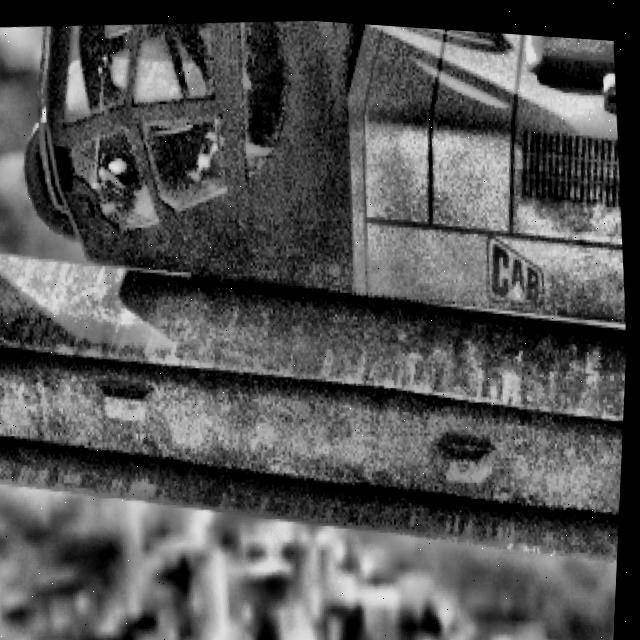excavator: (0, 0, 640, 610)
